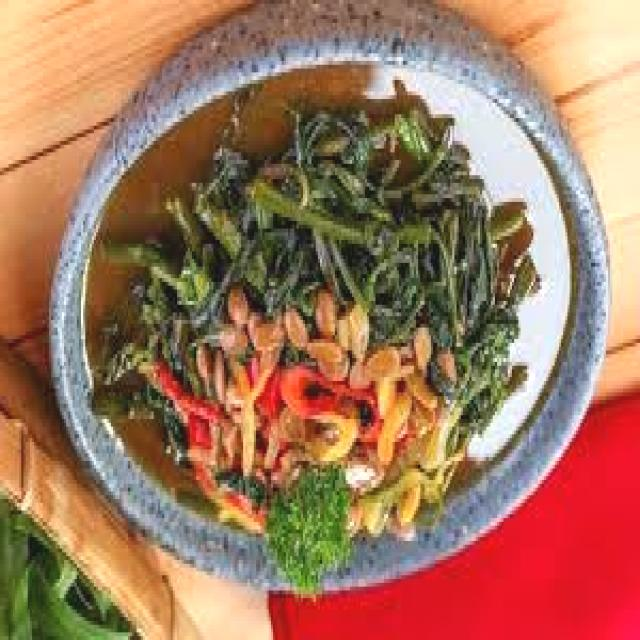tumis kangkung: (70, 94, 516, 525)
